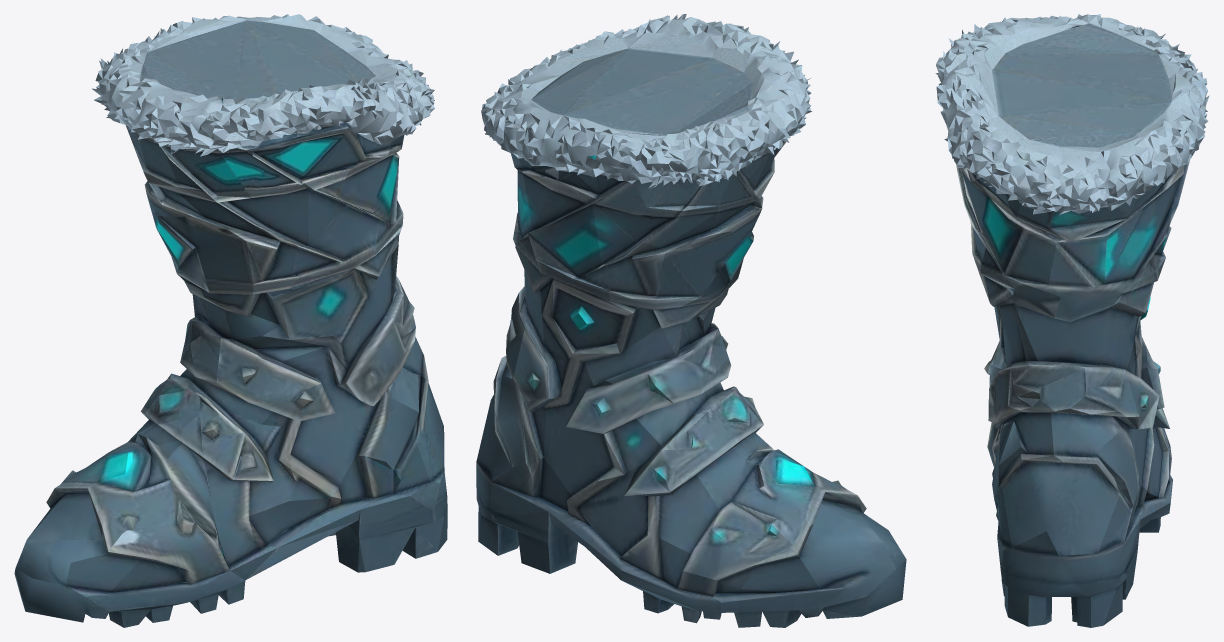
The model's file is mx_gr_ice_boot.glb.
3 renders of one model, left to right at view 1: azimuth 30°, elevation 25°; view 2: azimuth 150°, elevation 25°; view 3: azimuth 270°, elevation 25°, orthographic. The views are drawn at different scales.
Bounding box in the file's own units: 1.62 × 1.9 × 0.9595.
1 material, 1 textured.
